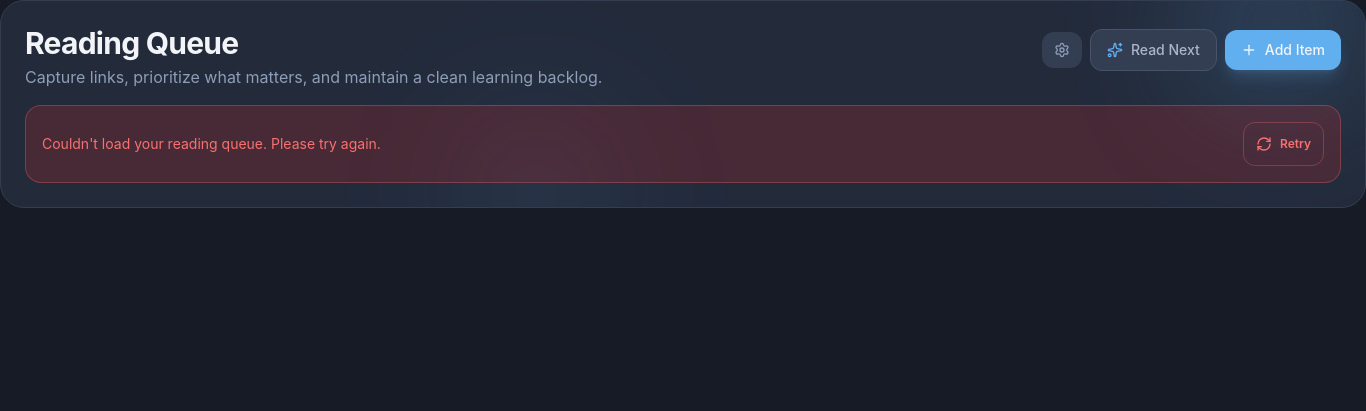
Test: ReadingListAdminView › keeps a failed queue load distinct from an empty queue and retries it
Expected: the message "Couldn't load your reading queue. Please try again. Retry" is shown, [25, 105, 1341, 183]
Click the button with aria-label "retry loading reading queue".
click(1284, 144)  # box [1243, 122, 1324, 166]
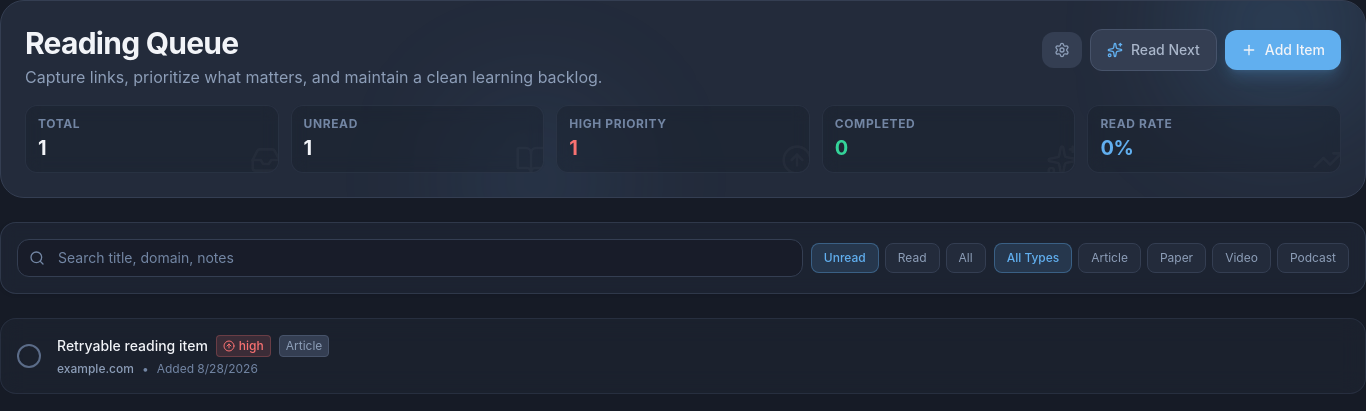
Result: the text "Retryable reading item" is shown at [57, 336, 208, 356]
Result: the text "Couldn't load your reading queue" is gone
